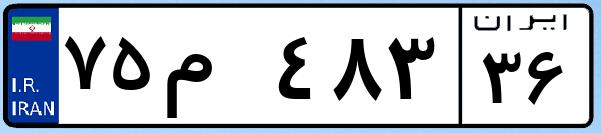3: (385, 28, 445, 110), (475, 38, 525, 113)
4: (270, 28, 330, 110)
5: (110, 28, 158, 98)
6: (525, 38, 570, 115)
7: (57, 26, 110, 100)
8: (330, 28, 385, 110)
م: (158, 20, 270, 120)
